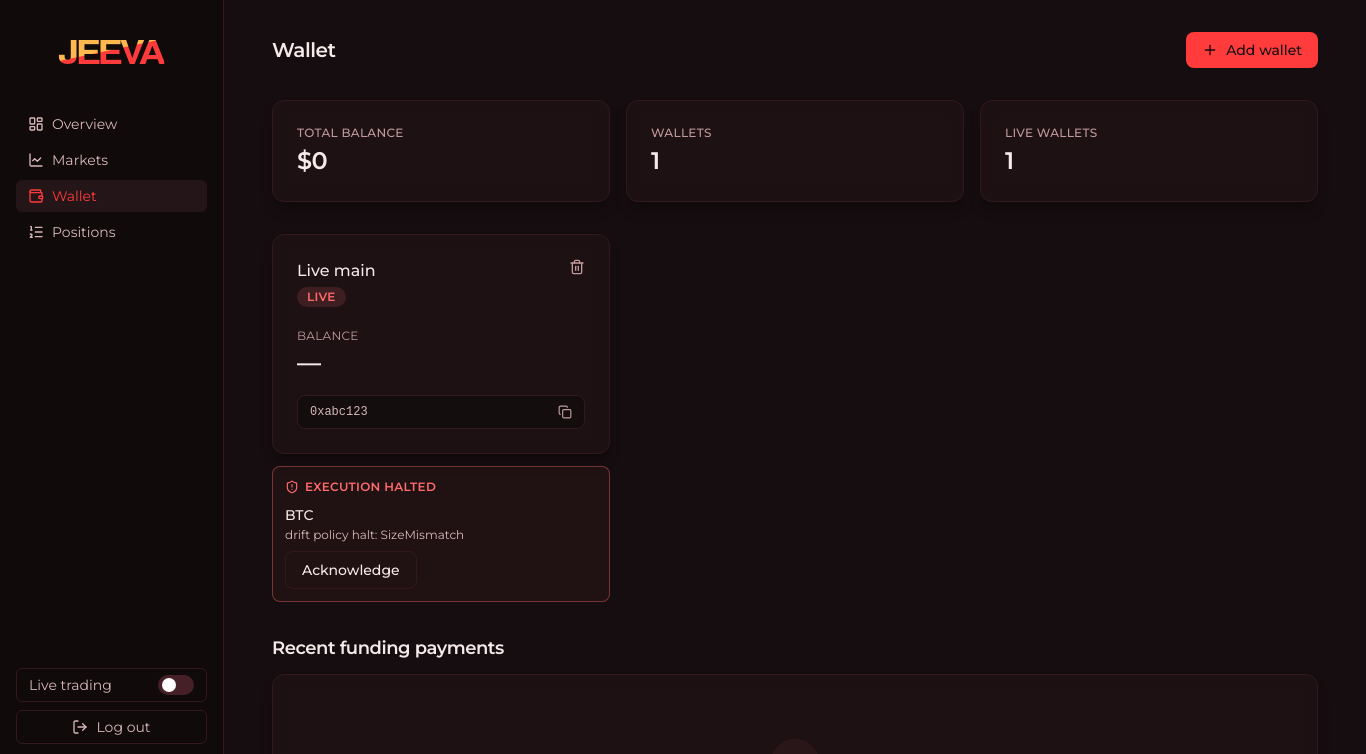
Test: WalletPage › surfaces a live wallet's halted PERP and lets the operator acknowledge it
Expected: the text "Execution halted" is shown, [285,479,436,494]
Expected: the text "drift policy halt: SizeMismatch" is shown, [285,527,464,543]
Click the button "Acknowledge".
click(351, 570)  # box [285,551,417,589]
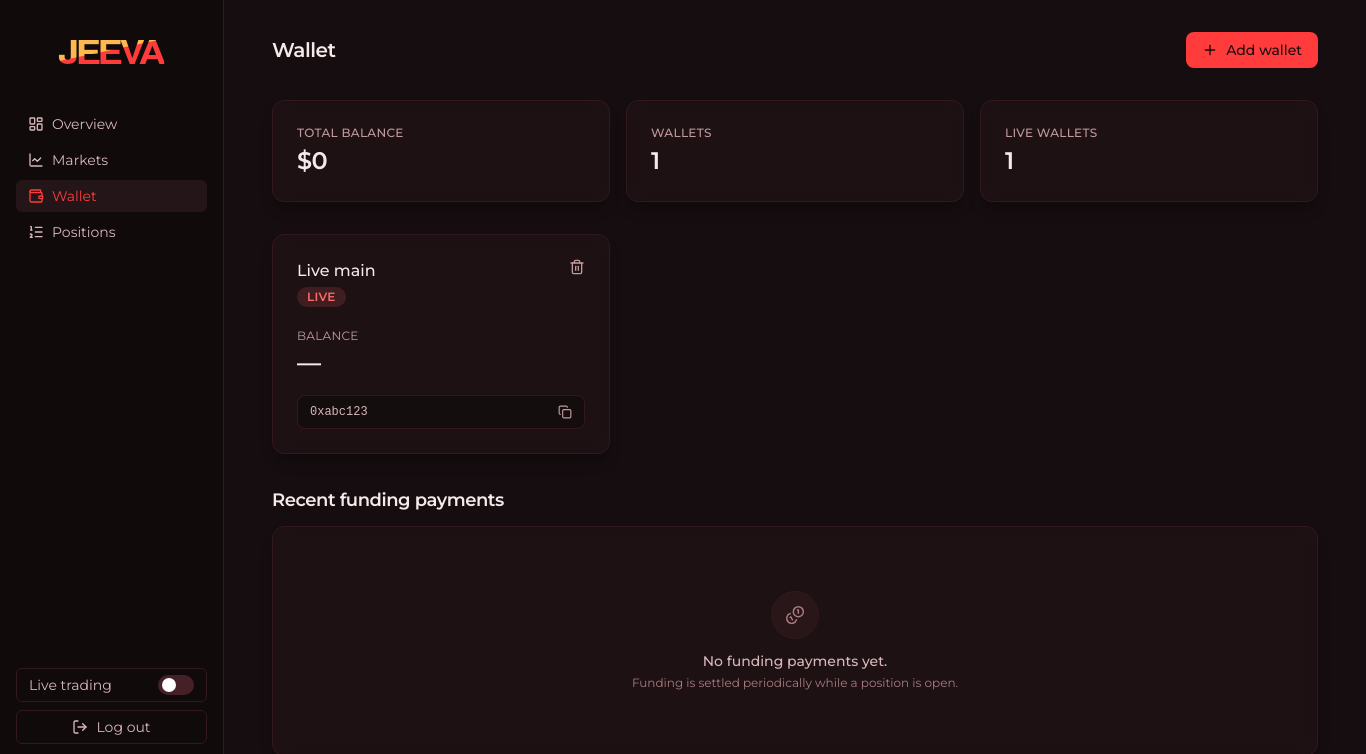
Now the text "Execution halted" is gone
